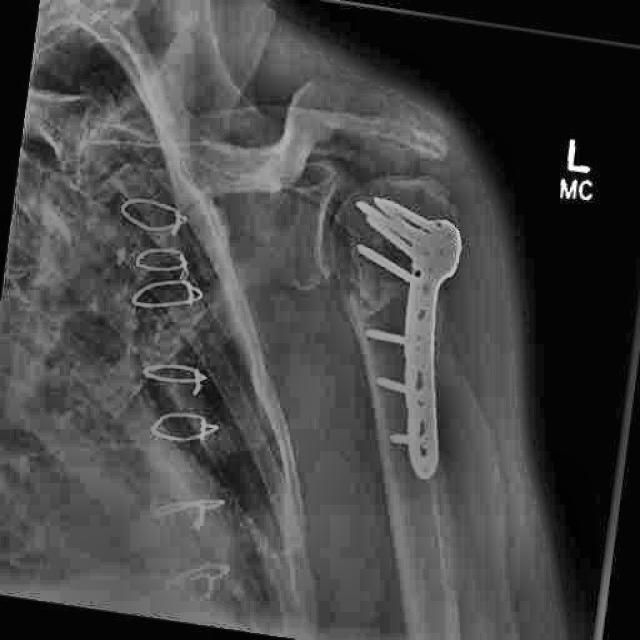shoulder fracture: (319, 271, 401, 332)
